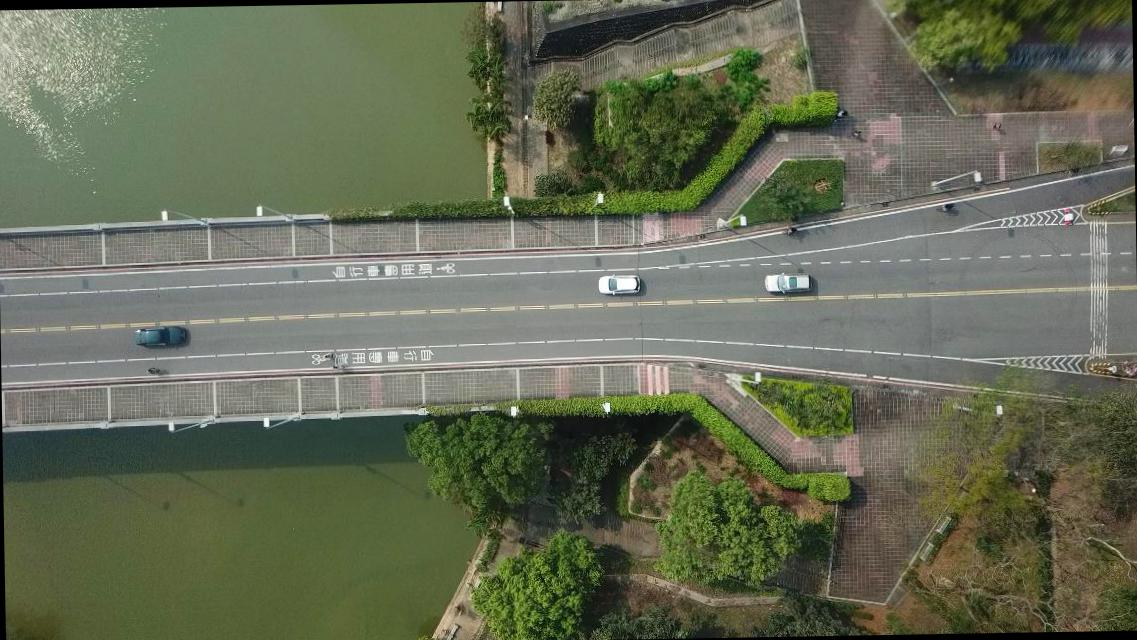vehicle: (764, 270, 812, 294), (135, 327, 187, 348), (598, 274, 640, 296)
